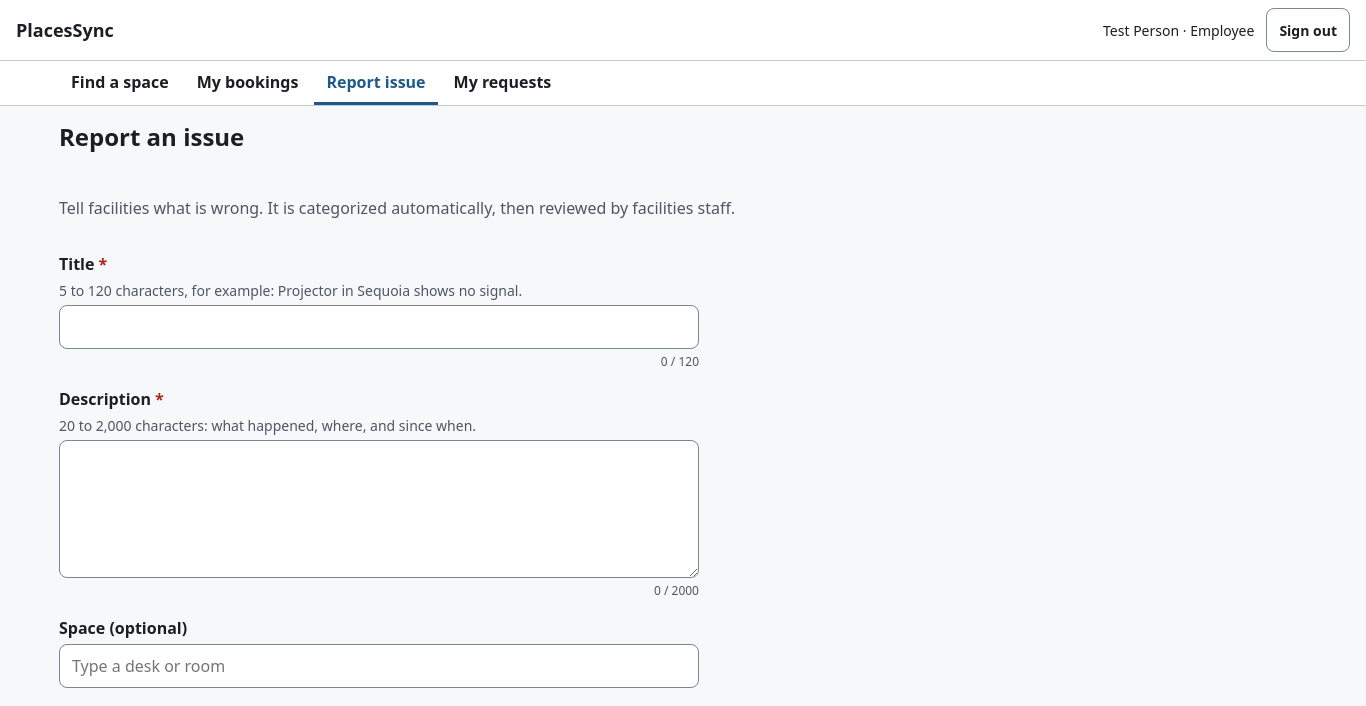
Test: Report an issue (SPEC 14.1) › submits and navigates to the request
This screenshot has width=1366, height=706.
In the field labelled "Title*": (379, 327) x1=59 y1=305 x2=699 y2=349, type "Projector has no signal"
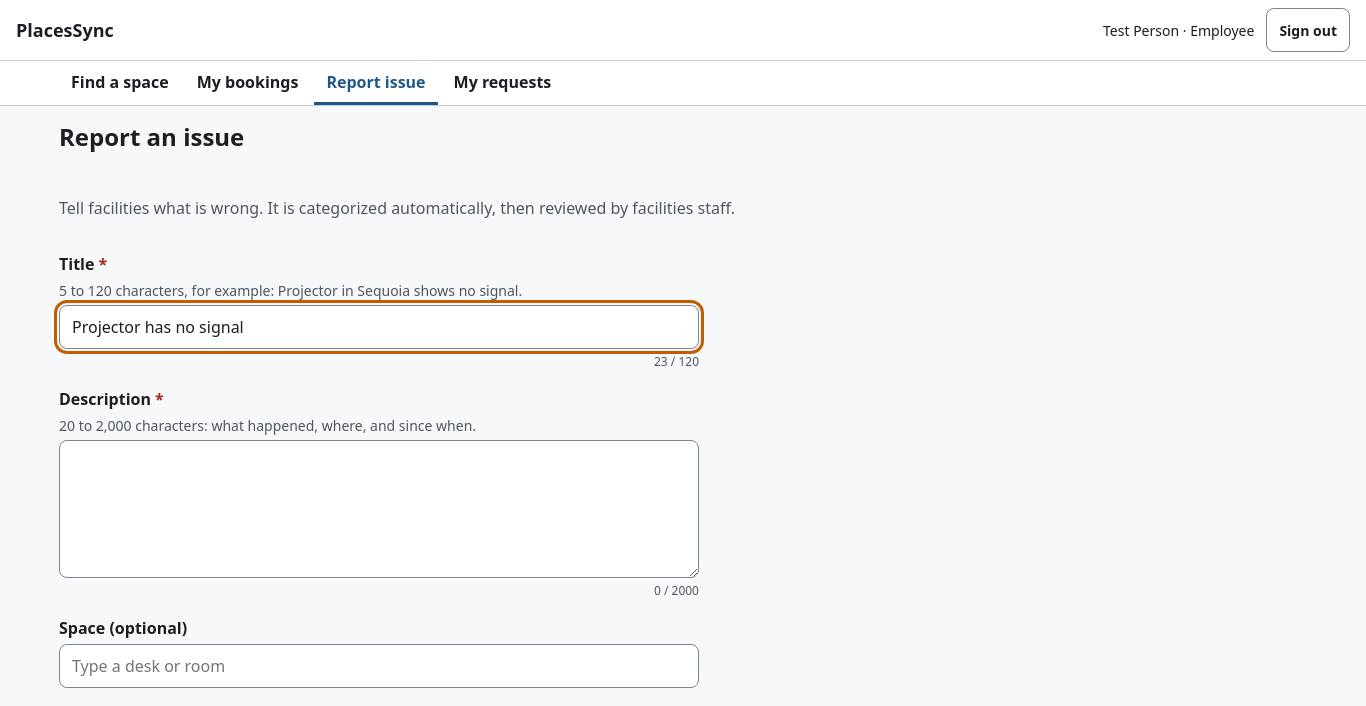
In the text box labelled "Description*": (379, 509) x1=59 y1=440 x2=699 y2=578, type "The projector in Sequoia shows no signal from HDMI."
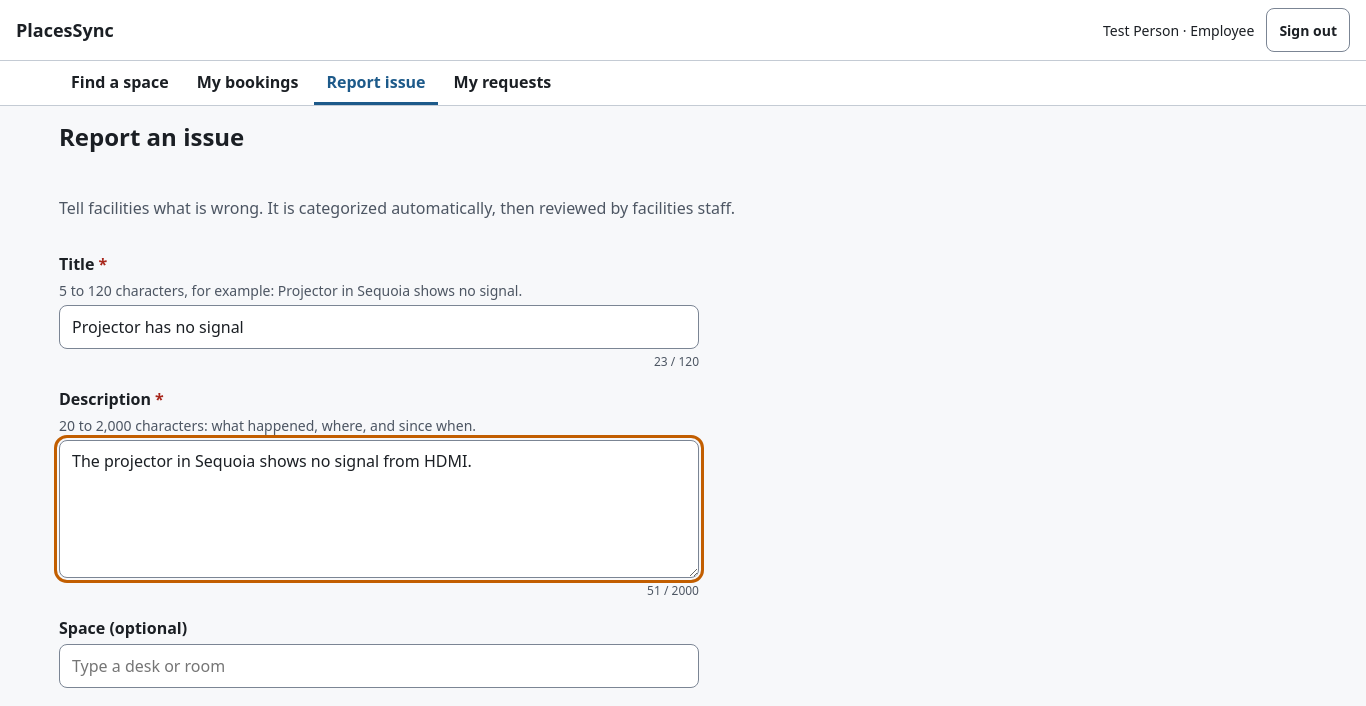
In the dropdown labelled "Space (optional)": (379, 666) x1=59 y1=644 x2=699 y2=688, type "sequ"
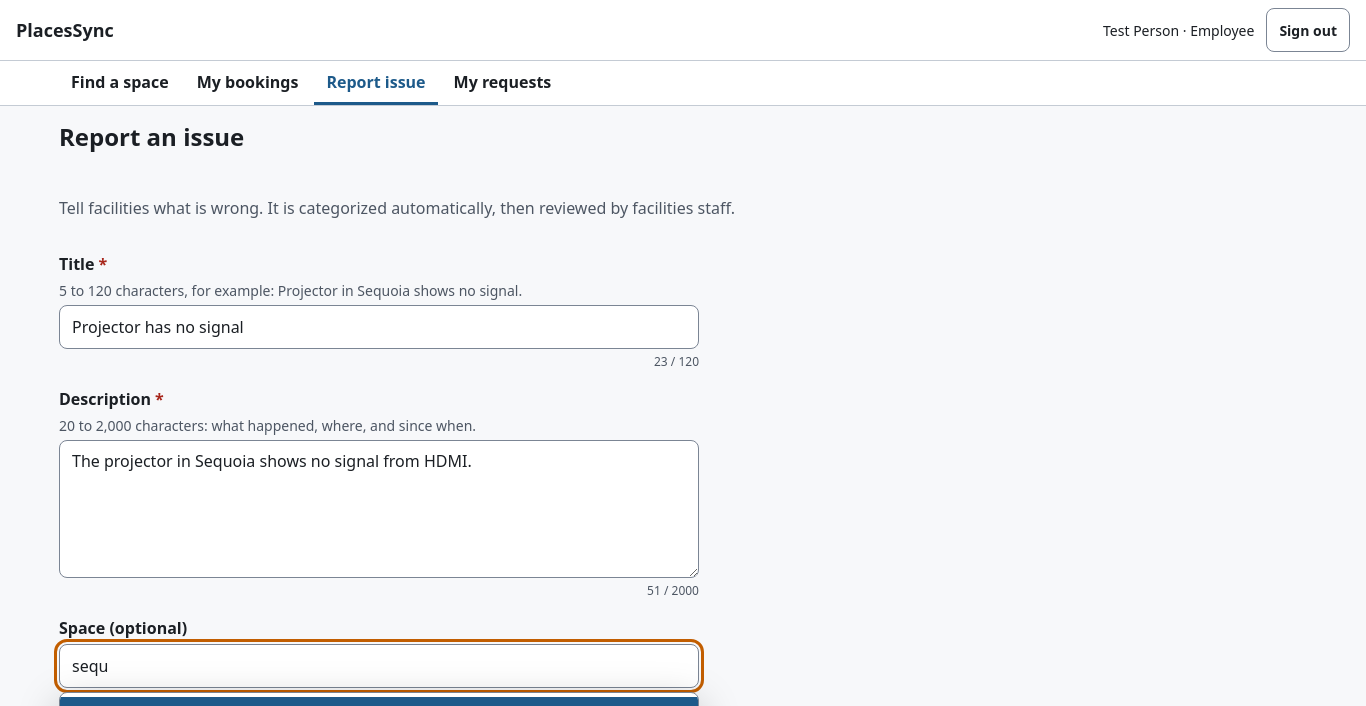
Press Enter
(page scrolled)
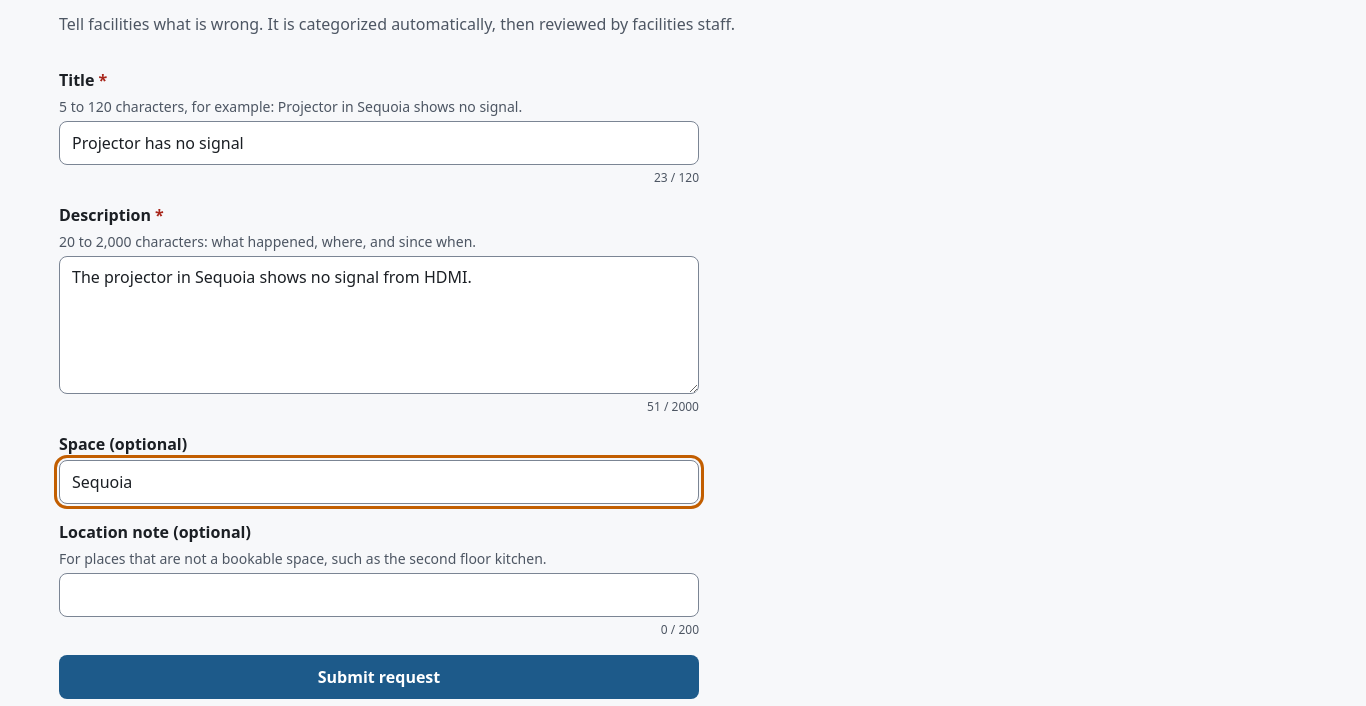
Click the button "Submit request": (379, 677) x1=59 y1=655 x2=699 y2=699
(page scrolled)
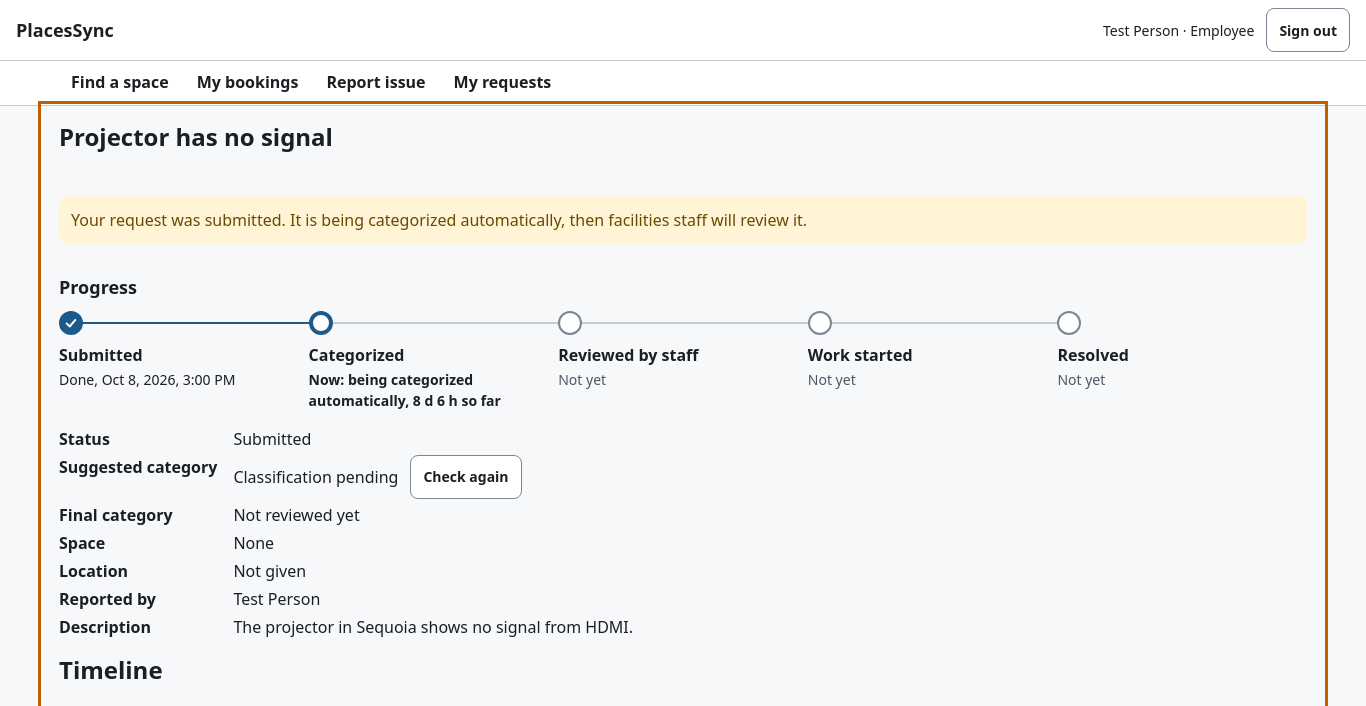
Now the text "It is being categorized automatically" is shown, box x1=71 y1=209 x2=807 y2=231
